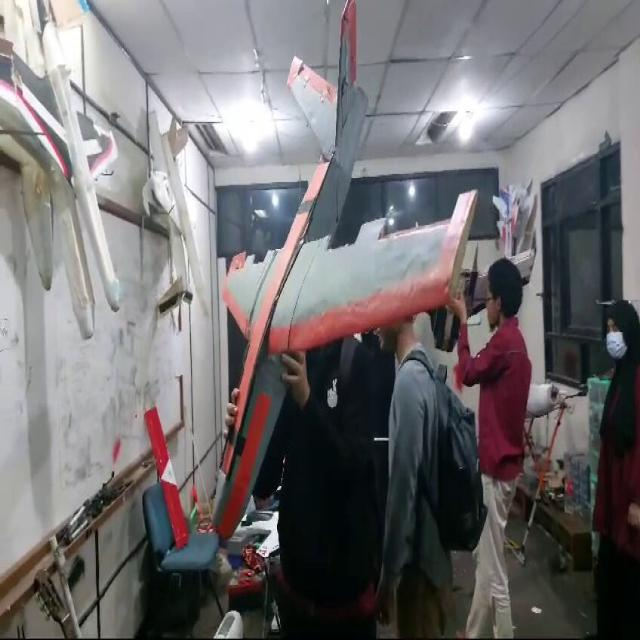plane: (186, 0, 482, 554)
